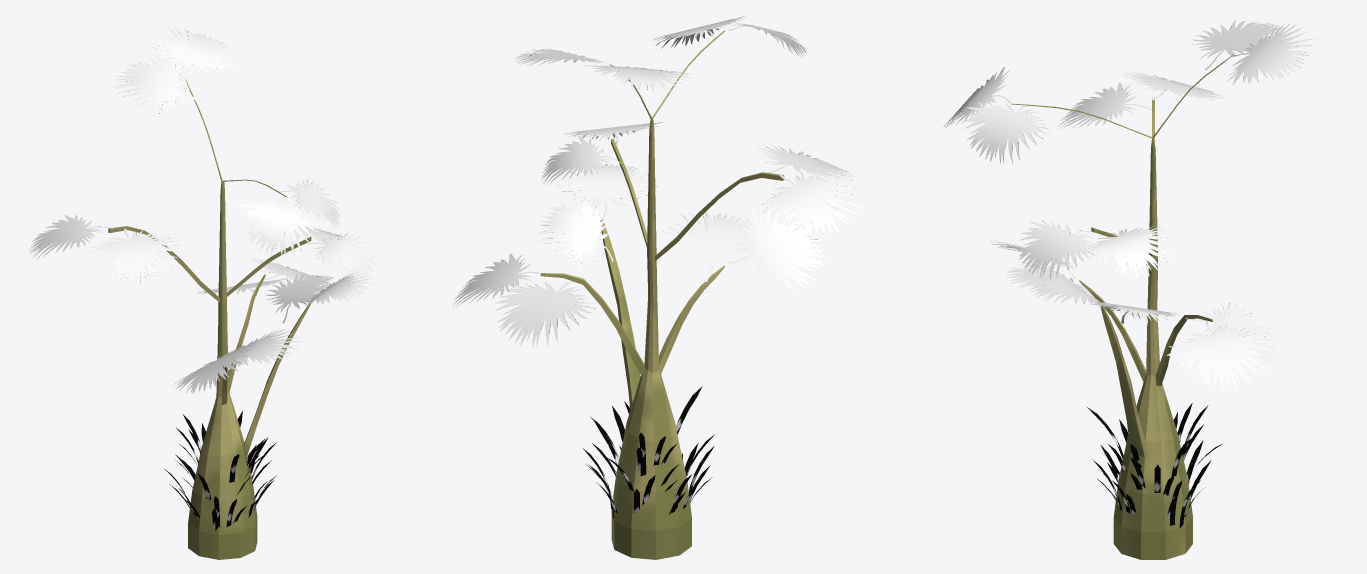
The model's file is MSH_FullTree1.fbx.
3 views of the same model, side by side, from view 1: azimuth 30°, elevation 25°; view 2: azimuth 150°, elevation 25°; view 3: azimuth 270°, elevation 25° (orthographic). The views are drawn at different scales.
Parts seen in each view (by area): view 1: Trunk; view 2: Trunk; view 3: Trunk.
Part boxes in pixels (<box>): Trunk: <box>29,27,375,559</box>; Trunk: <box>452,16,862,559</box>; Trunk: <box>943,20,1318,559</box>.
Bounding box in the file's own units: 687 × 846 × 628.
